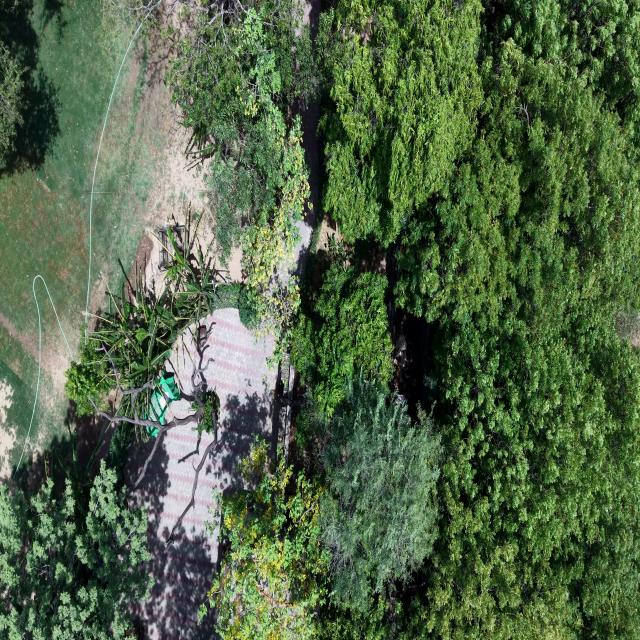DRY_AREA: (0, 0, 127, 476), (0, 1, 126, 473), (136, 309, 277, 639), (135, 309, 276, 639)
VEGETATION_TREE: (168, 0, 639, 639), (397, 1, 639, 637), (397, 2, 639, 322), (405, 308, 639, 637), (108, 0, 318, 359), (66, 218, 239, 549), (292, 253, 440, 608), (167, 1, 312, 358), (168, 0, 313, 350), (318, 1, 482, 244), (66, 225, 221, 417), (321, 373, 440, 608), (0, 459, 152, 639), (90, 345, 219, 551), (209, 442, 326, 639), (291, 259, 392, 420), (65, 329, 116, 415), (316, 593, 395, 639), (0, 41, 24, 167), (109, 421, 134, 476), (191, 390, 220, 437), (238, 284, 258, 331), (616, 310, 639, 345), (216, 282, 242, 307)
